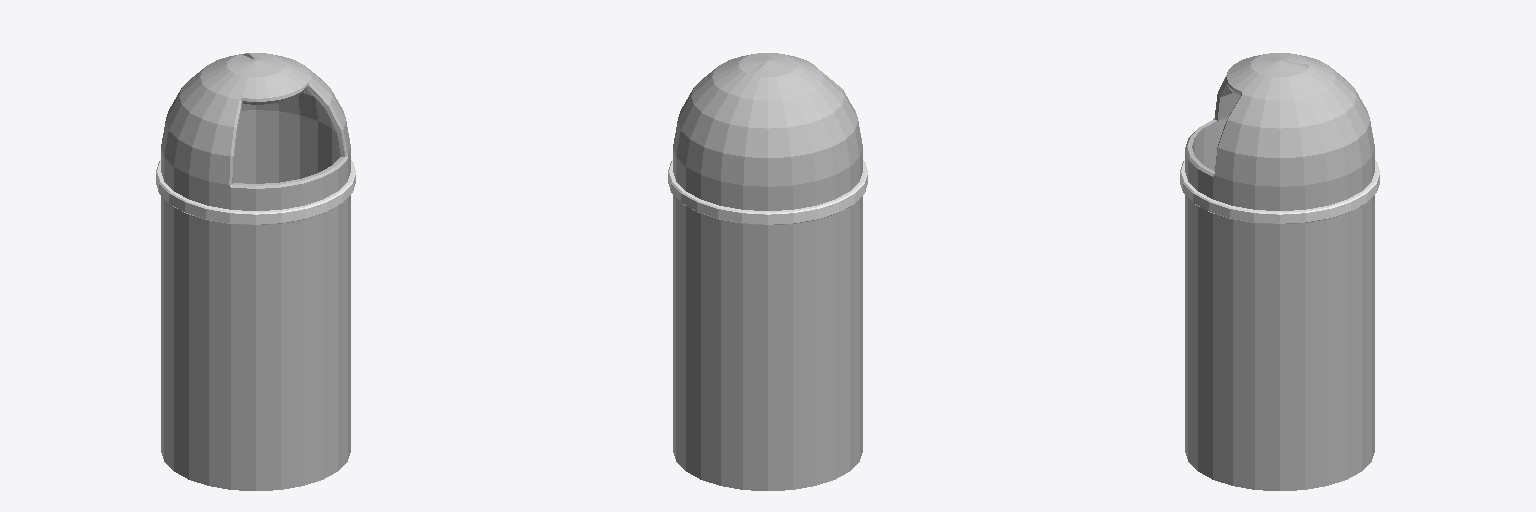
The model's file is bin.obj.
3 renders of one model, left to right at view 1: azimuth 30°, elevation 25°; view 2: azimuth 150°, elevation 25°; view 3: azimuth 270°, elevation 25°, orthographic.
Visible parts, largest first — view 1: initialShadingGroup bin1:bin_1 group, bin1:bin_1 group; view 2: initialShadingGroup bin1:bin_1 group, bin1:bin_1 group; view 3: initialShadingGroup bin1:bin_1 group, bin1:bin_1 group.
Boxes of the visible parts, box(x1,y1,x2,y2) form: initialShadingGroup bin1:bin_1 group: box(161, 53, 350, 490); bin1:bin_1 group: box(156, 160, 355, 224); initialShadingGroup bin1:bin_1 group: box(673, 53, 862, 490); bin1:bin_1 group: box(668, 160, 867, 224); initialShadingGroup bin1:bin_1 group: box(1185, 53, 1374, 490); bin1:bin_1 group: box(1180, 160, 1379, 223).
Bounding box in the file's own units: 0.5677 × 1.22 × 0.5677.